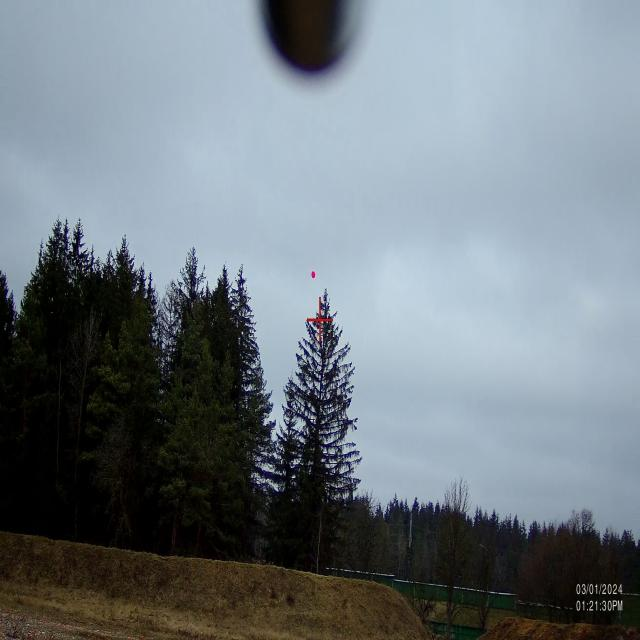entire: (306, 265, 318, 279)
